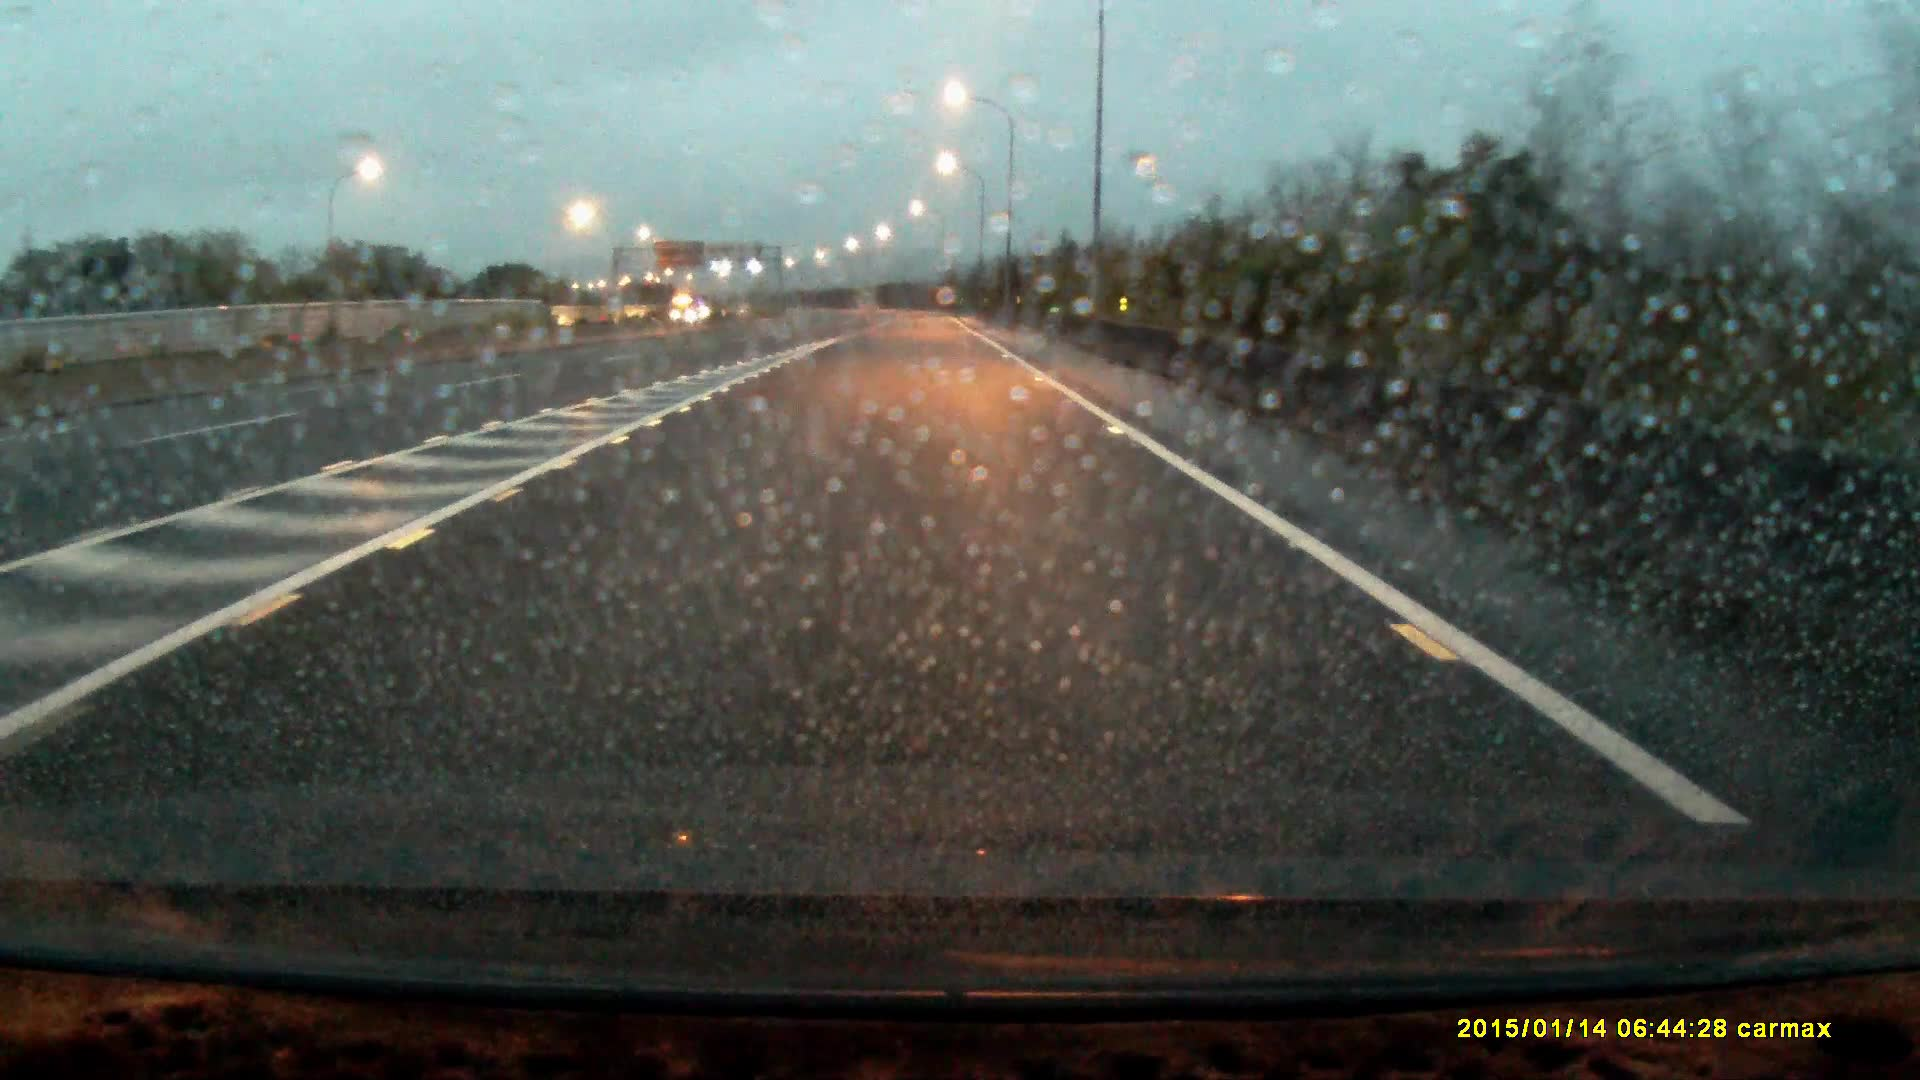vehicle: (671, 297, 703, 326)
